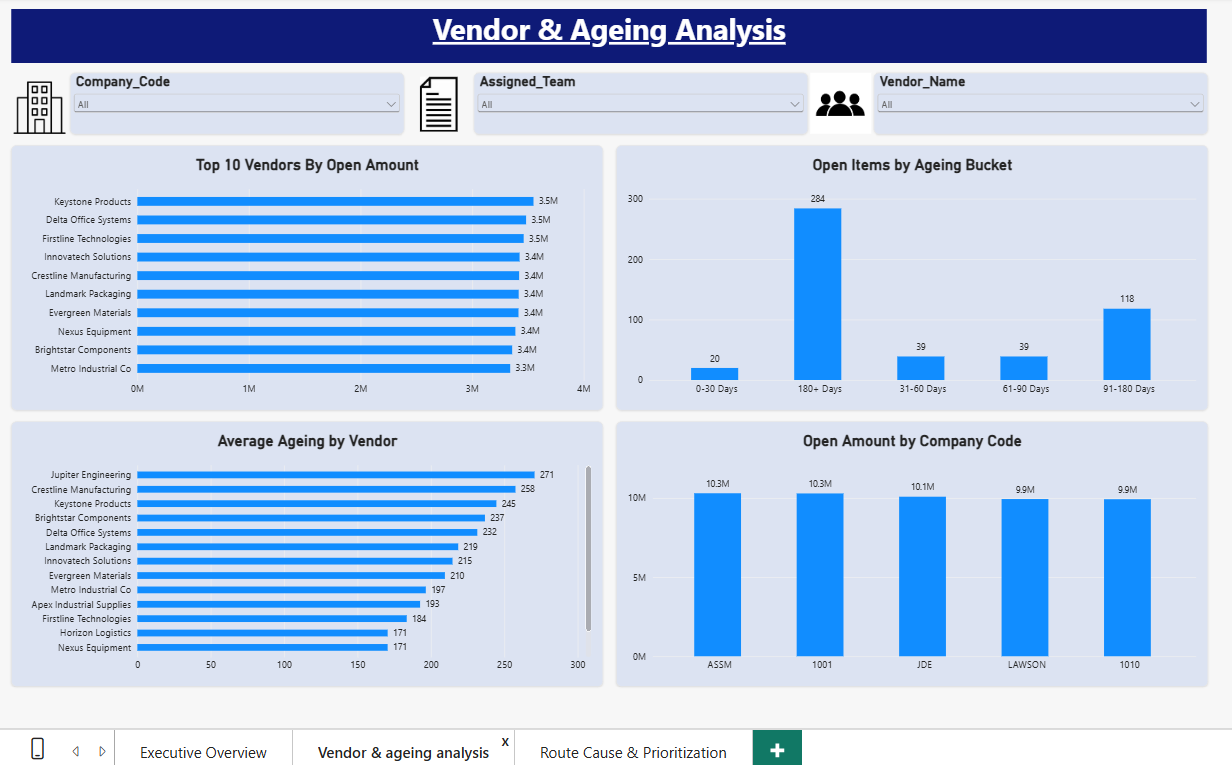

This screenshot's page, from the dashboard's own definition file:
{"tool":"powerbi","page":{"name":"Vendor & ageing analysis","canvas":[1920,1080],"ordinal":1},"visuals":[{"type":"clusteredBarChart","title":"Top 10 Vendors By Open Amount","fields":{"Category":["GRIR_Data.Vendor_Name"],"Y":["Sum(GRIR_Data.Open_Amount_INR)"]},"box":[83.7,215.9,876.5,392.6],"z":0},{"type":"clusteredColumnChart","title":"Open Items by Ageing Bucket","fields":{"Category":["GRIR_Data.Ageing_Bucket"],"Y":["CountNonNull(GRIR_Data.GRIR_Item_ID)"]},"box":[978.8,215.9,876.5,392.6],"z":1},{"type":"clusteredBarChart","title":"Average Ageing by Vendor","fields":{"Category":["GRIR_Data.Vendor_Name"],"Y":["Avg(GRIR_Data.Ageing_Days)"]},"box":[83.7,625.2,876.5,392.6],"z":2},{"type":"clusteredColumnChart","title":"Open Amount by Company Code","fields":{"Category":["GRIR_Data.Company_Code"],"Y":["Sum(GRIR_Data.Open_Amount_INR)"]},"box":[978.8,625.2,876.5,392.6],"z":3},{"type":"slicer","fields":{"Values":["GRIR_Data.Assigned_Team"]},"box":[768.5,109.8,495,91.2],"z":4},{"type":"slicer","fields":{"Values":["GRIR_Data.Company_Code"]},"box":[171.2,109.8,495,91.2],"z":5},{"type":"slicer","fields":{"Values":["GRIR_Data.Vendor_Name"]},"box":[1360.3,109.8,495,91.2],"z":6},{"type":"image","box":[39.1,122.8,173,77.3],"z":7},{"type":"image","box":[664.8,114.8,103.7,81.5],"z":8},{"type":"image","box":[1263,109.3,98.1,90.7],"z":9},{"type":"textbox","box":[83.7,14.9,1771.5,80],"z":10}]}

Visuals, with their boxes on the page's 1920x1080 design canvas (x1, y1, x2, y2). These are canvas units, not pixel positions in the 1232x765 screenshot, which may show the page scaled, cropped or inside an application window:
"Top 10 Vendors By Open Amount" clusteredBarChart: box(84, 216, 960, 608)
"Open Items by Ageing Bucket" clusteredColumnChart: box(979, 216, 1855, 608)
"Average Ageing by Vendor" clusteredBarChart: box(84, 625, 960, 1018)
"Open Amount by Company Code" clusteredColumnChart: box(979, 625, 1855, 1018)
slicer - GRIR_Data.Assigned_Team: box(768, 110, 1264, 201)
slicer - GRIR_Data.Company_Code: box(171, 110, 666, 201)
slicer - GRIR_Data.Vendor_Name: box(1360, 110, 1855, 201)
image: box(39, 123, 212, 200)
image: box(665, 115, 768, 196)
image: box(1263, 109, 1361, 200)
textbox: box(84, 15, 1855, 95)
